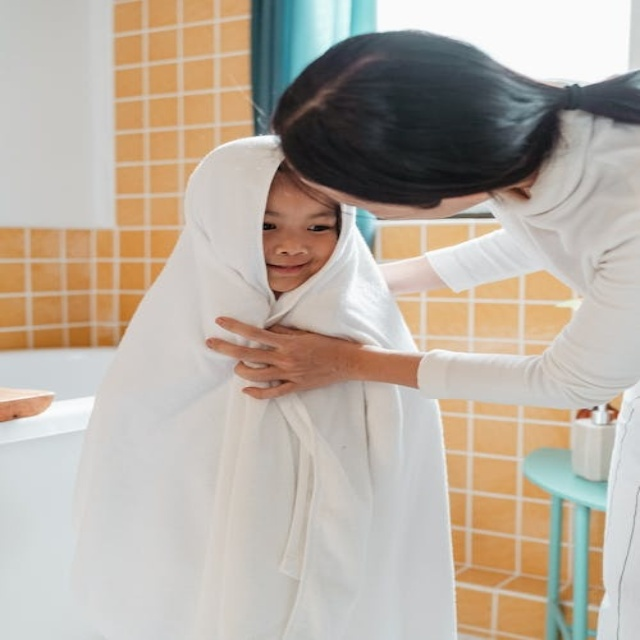Sin_gafas: (264, 210, 337, 241)
Sin_guantes: (207, 315, 360, 397)
Sin_mascara: (268, 256, 311, 284)
